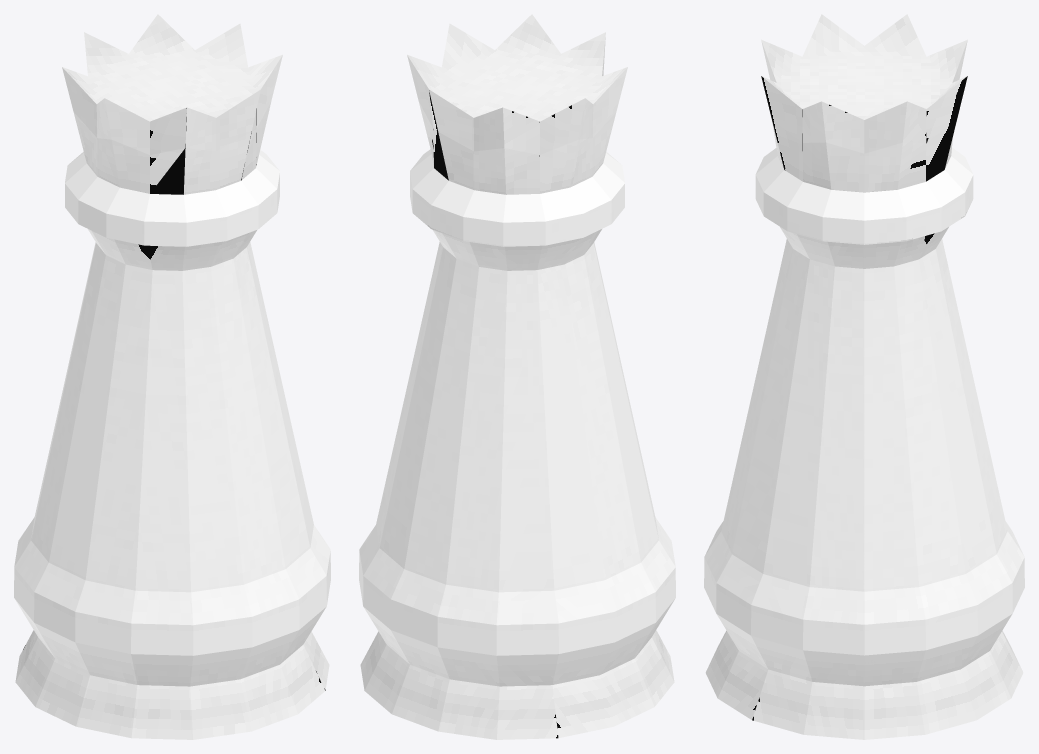
File: chess.gltf
3 views of the same model, side by side, from view 1: azimuth 30°, elevation 25°; view 2: azimuth 150°, elevation 25°; view 3: azimuth 270°, elevation 25° (orthographic).
Visible parts, largest first — view 1: Cylinder; view 2: Cylinder; view 3: Cylinder.
Boxes of the visible parts, box(x1,y1,x2,y2) form: Cylinder: box(14, 14, 330, 739); Cylinder: box(359, 14, 675, 739); Cylinder: box(704, 14, 1024, 739).
Bounding box in the file's own units: 2.02 × 4.27 × 2.02.
Materials: 1 (1 with a texture image).
